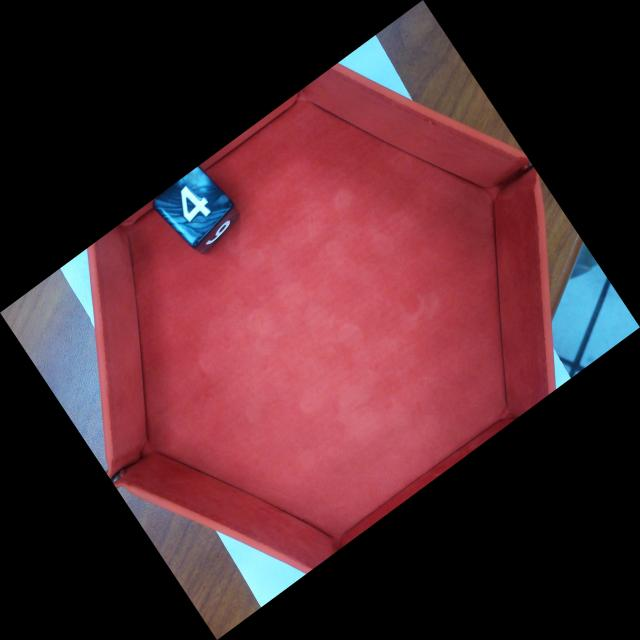dice: (153, 167, 239, 247)
